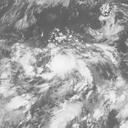cyclone: (46, 50, 81, 81)
